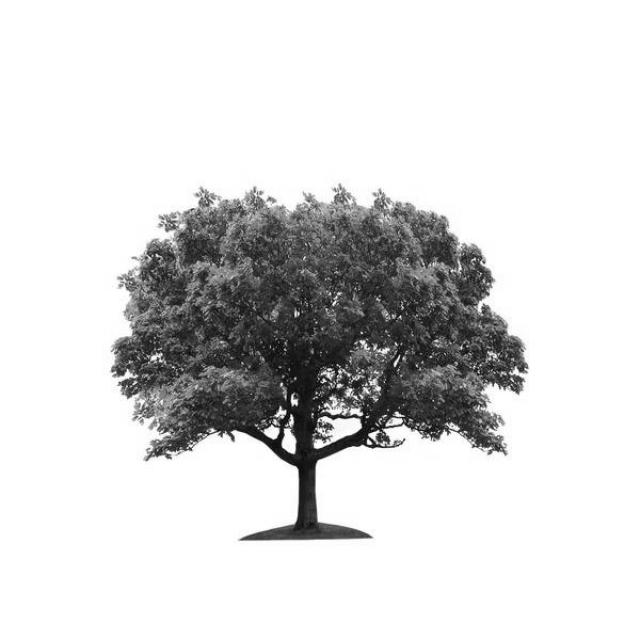Tree: (112, 187, 528, 536)
